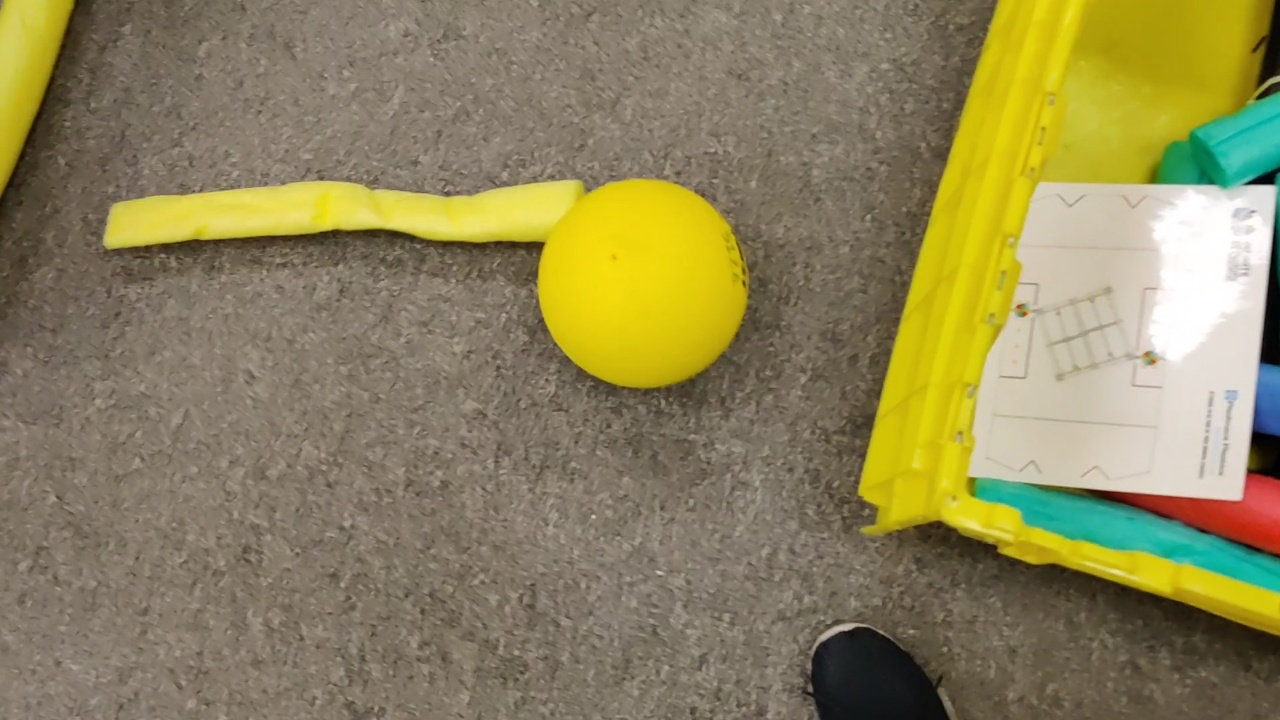Ball: (537, 179, 750, 399)
